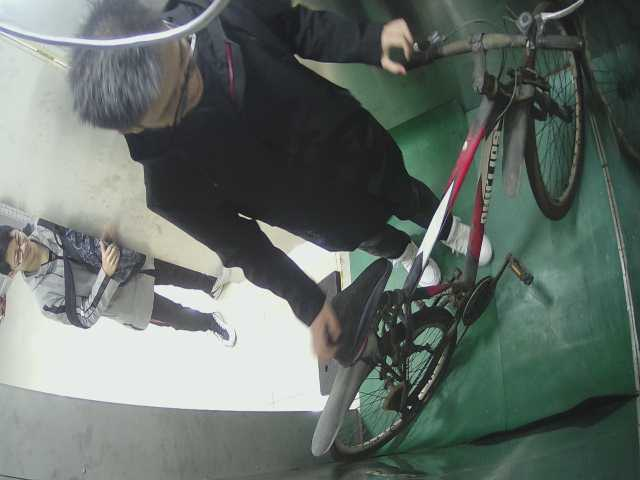bicycle: (300, 9, 596, 467)
person: (46, 1, 508, 296), (7, 221, 254, 357)
